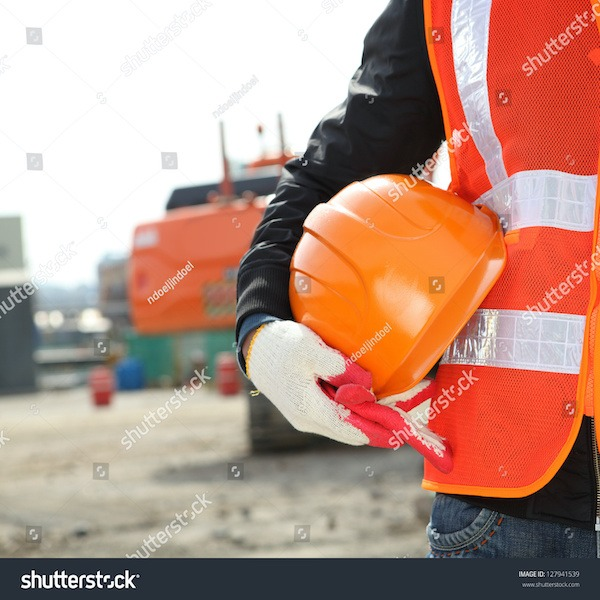helmet: (303, 170, 505, 379)
vest: (434, 5, 596, 491)
